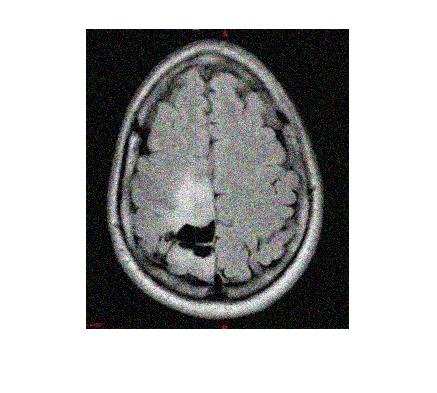Brain_Cancer: (170, 179, 219, 226)
